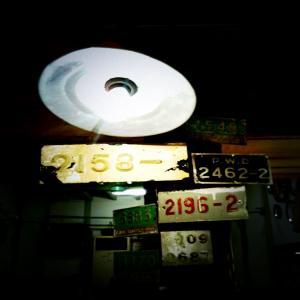Vehicle-registration-plate: (147, 187, 250, 228), (195, 155, 274, 186)
